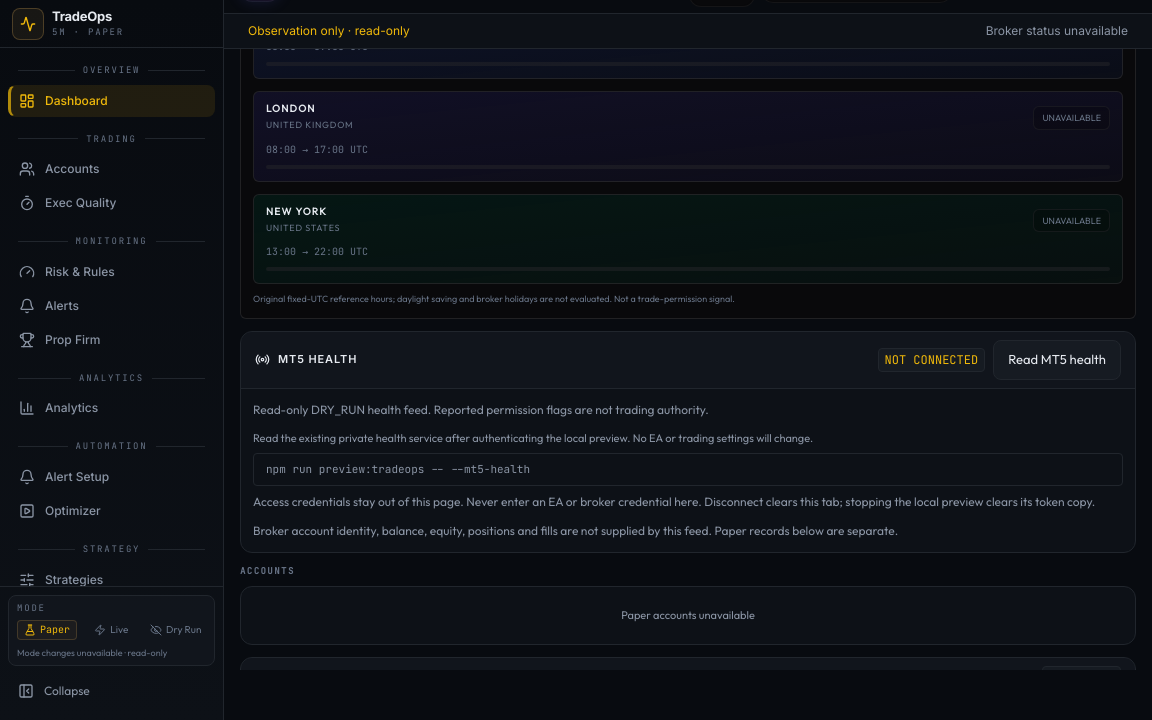
Scenario: restored MT5 health panel › reads health only after opt-in, shows separate EA facts on Dashboard and Accounts
(page scrolled)
Click the button "Read MT5 health".
click(1057, 360)  # box [993,340,1121,380]
(page scrolled)
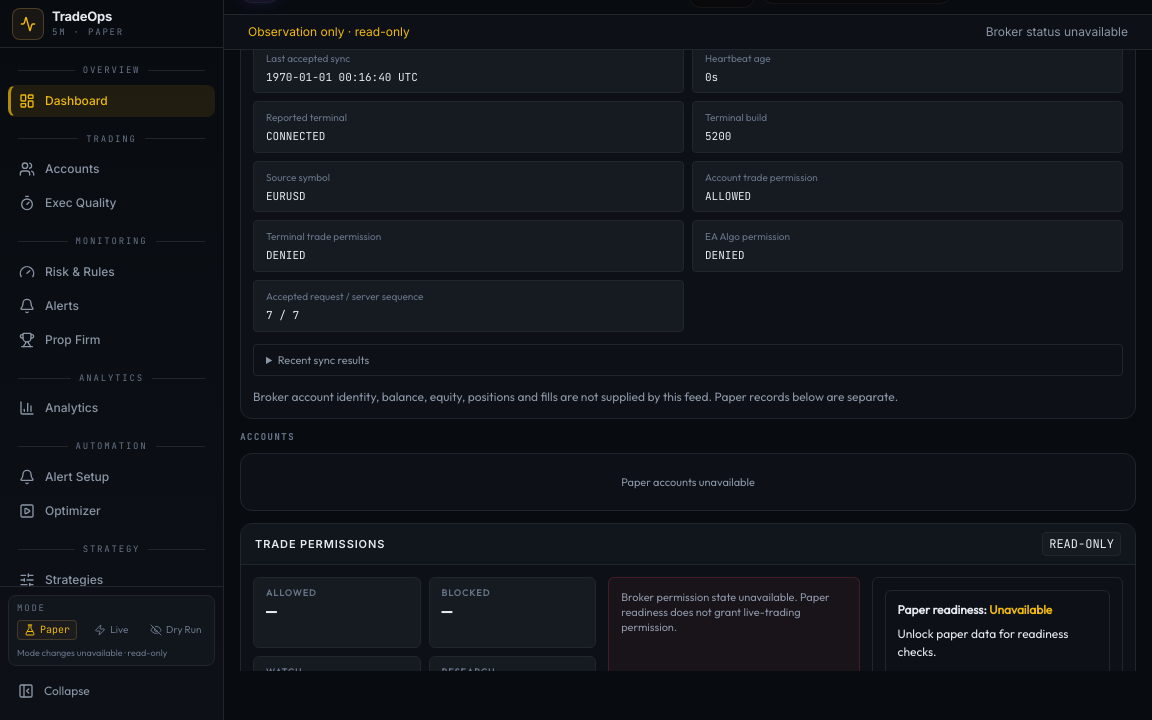
Check: the text "CONNECTED" is shown, box [266,129,325,143]
Check: the text "5200" is shown, box [705,129,731,143]
Click the heading "Recent sync results".
click(323, 360)  # box [278,353,369,367]
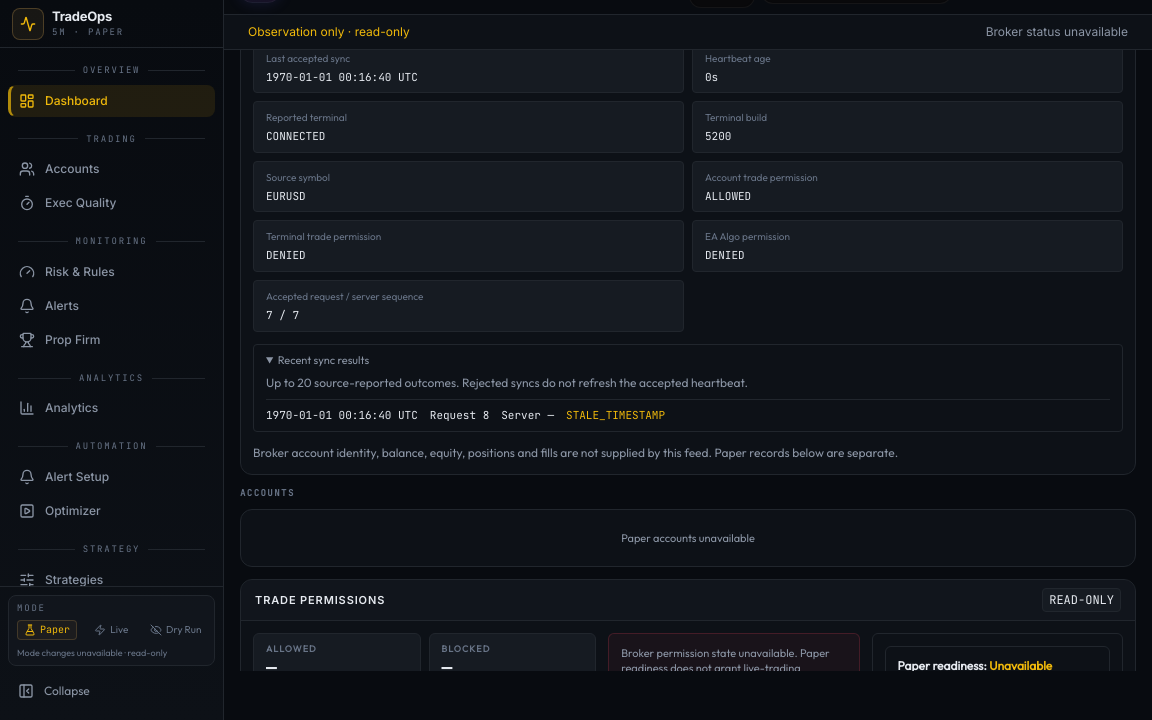
Check: the text "STALE_TIMESTAMP" is shown, box [566,408,665,423]
Click the link "Accounts".
click(59, 169)  # box [19,161,99,177]
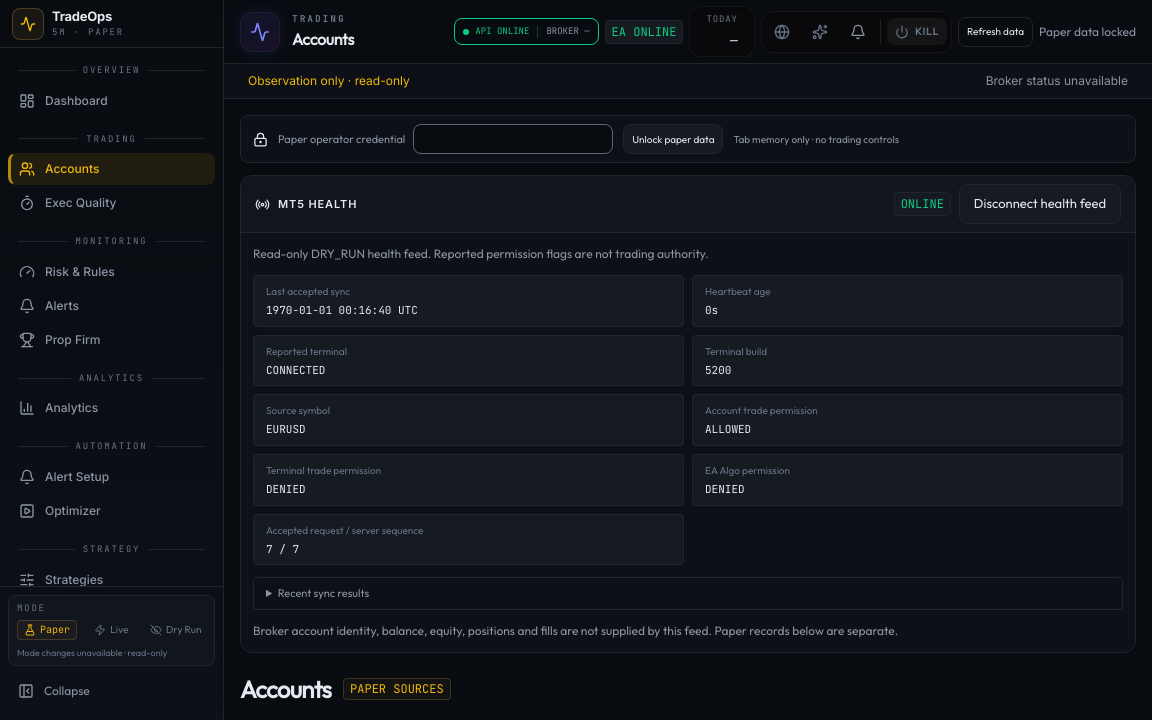
Check: the element "MT5 health" is shown, box [240,175,1136,653]
Click the button "Disconnect health feed".
click(1040, 204)  # box [959,184,1121,224]
Wait 60000 ms
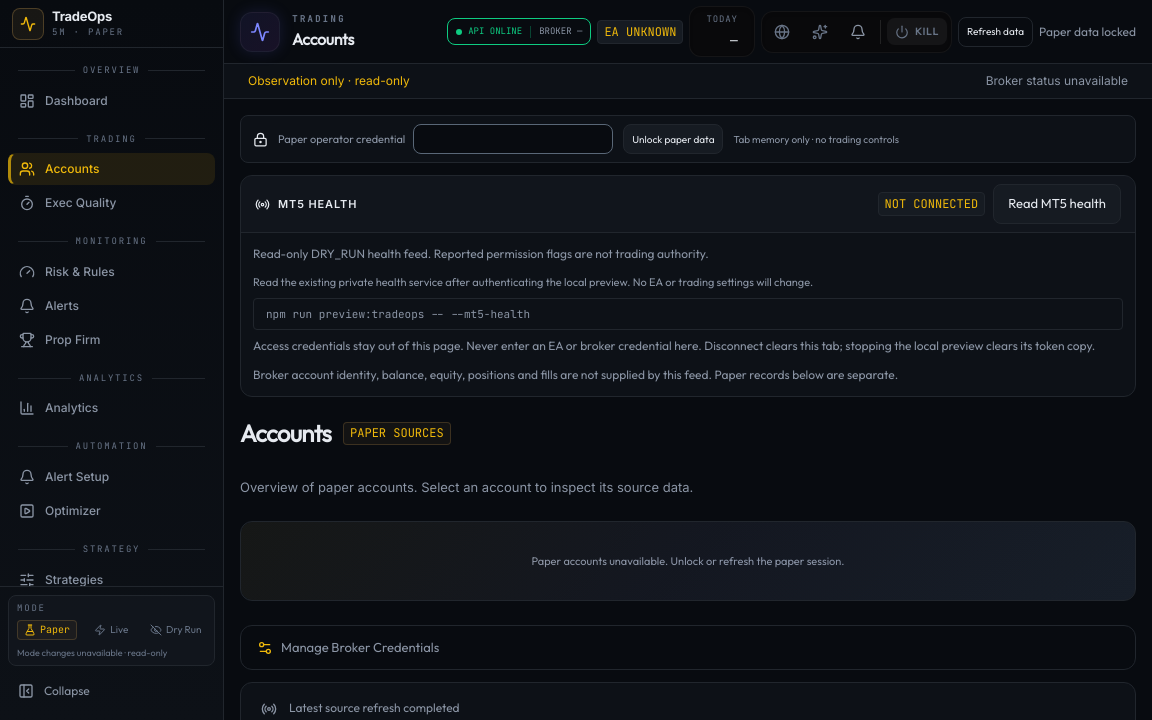
Check: the text "STALE_TIMESTAMP" is not shown
Check: the text "5200" is gone
